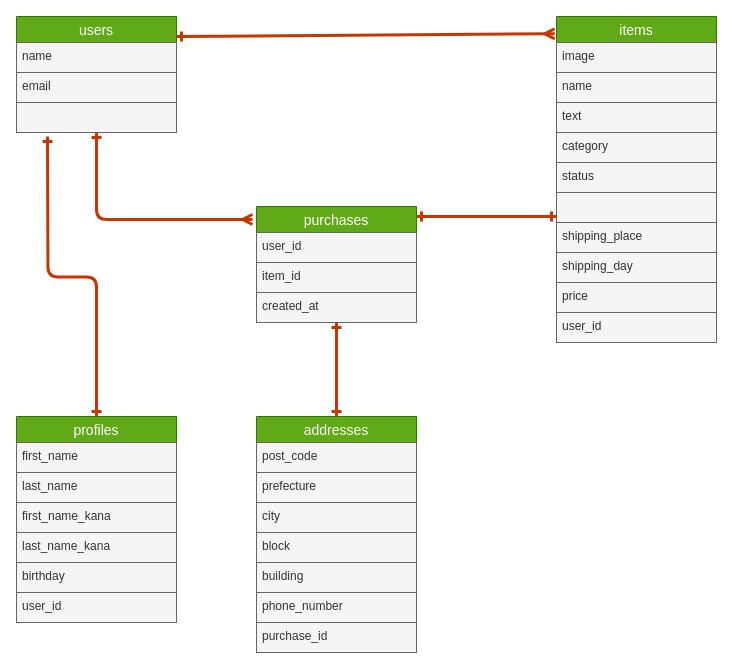
Some shapes in this 733 by 669 pixel diagram are drawn without their labels. The centre of each missing label's shape, as x and y in pixels:
"delivery_fee" goes at (x=636, y=207).
"password" goes at (x=96, y=117).
